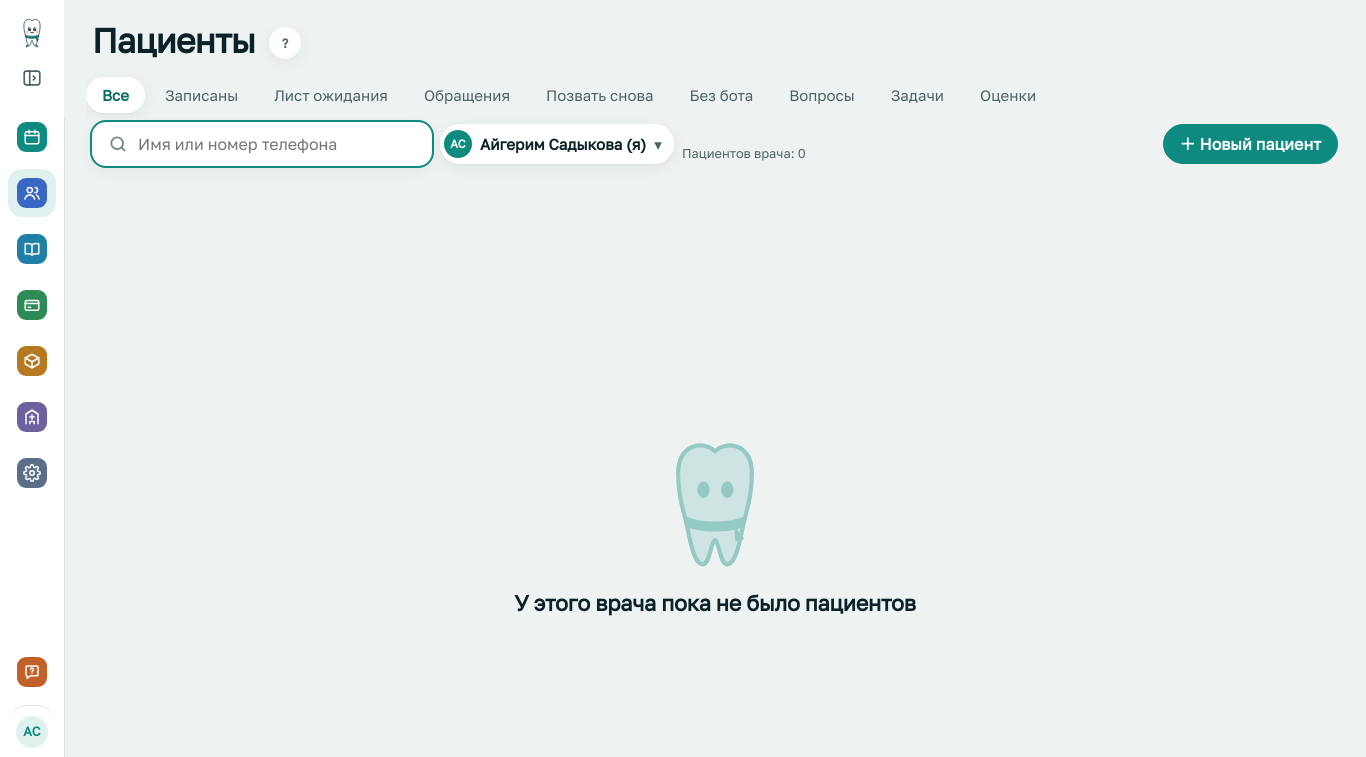
Test case: «Отменили»: «Записать» — «Новая запись» с этим пациентом, врачом и услугой отменённой записи
expect the navigation bar named "Разделы" is shown: met, box [8,113,56,497]
Step 1. Click the link "Позвать снова" → (600,95), box [546,86,653,104]
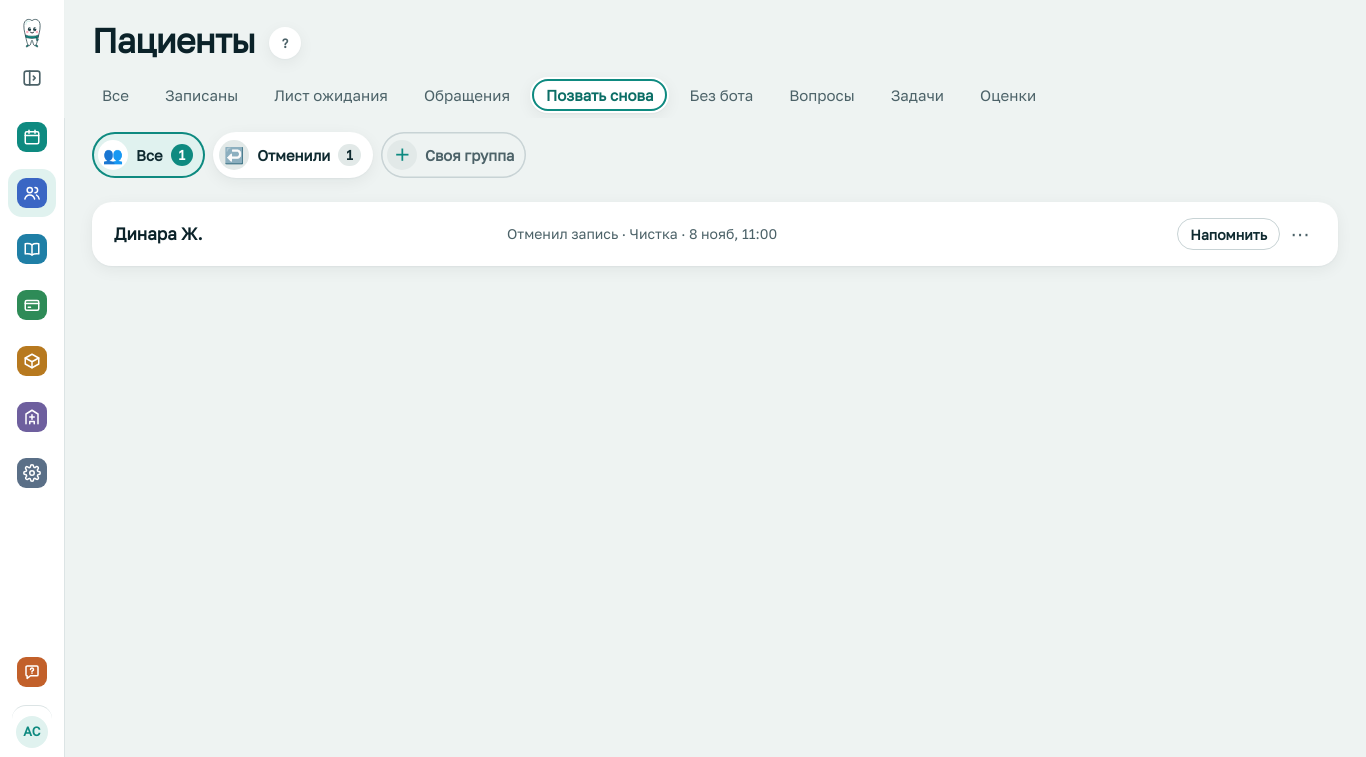
Step 2. Click the button named "Ещё: Динара Ж." → (1300,234), box [1284,218,1316,250]
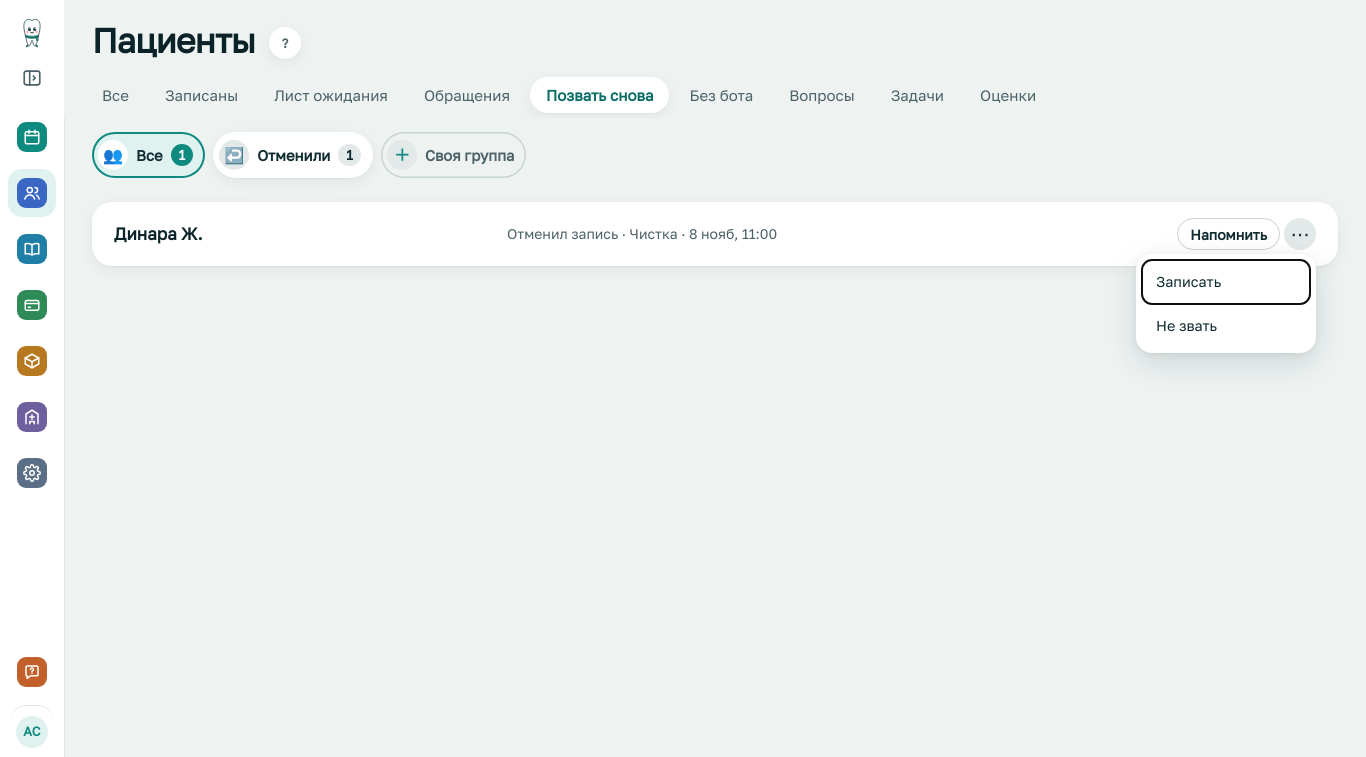
Step 3. Click the menu item "Записать" → (1226,282), box [1142,260,1310,304]
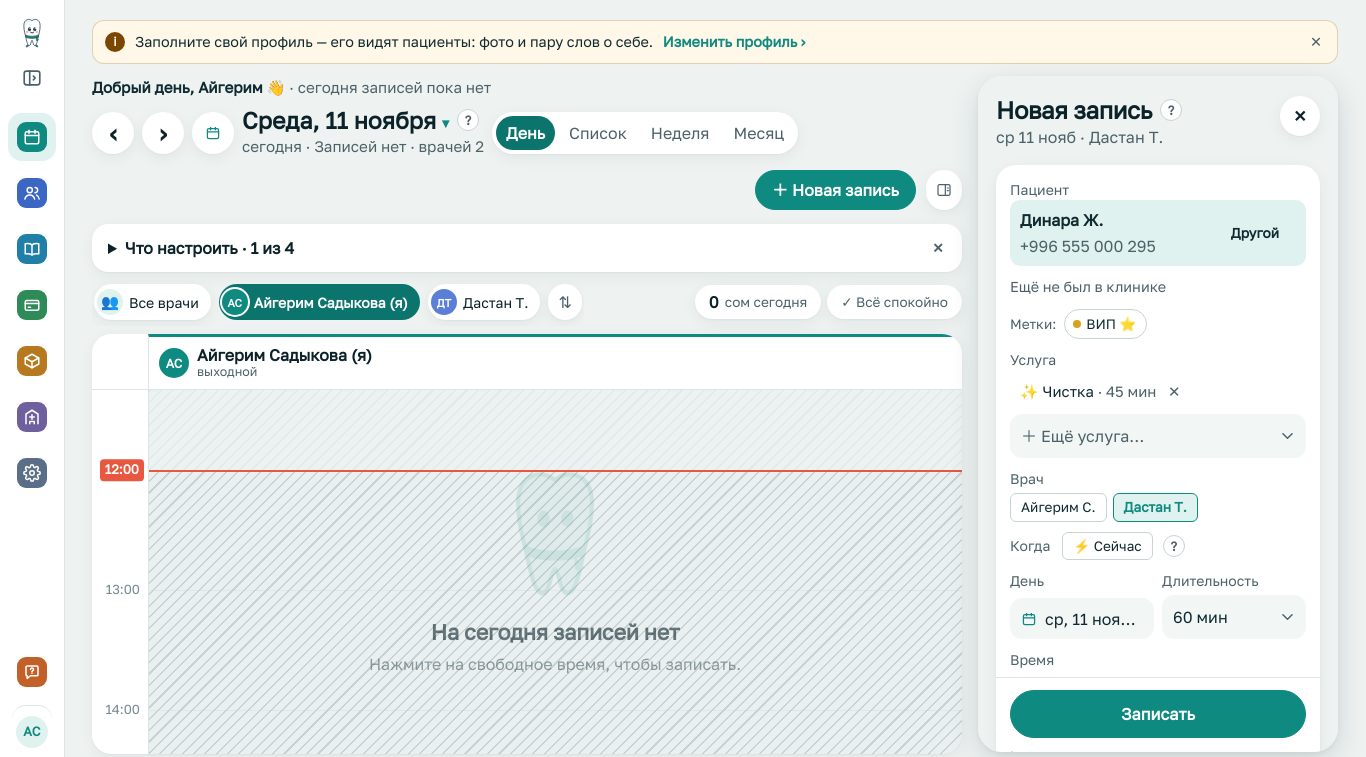
expect the element "Новая запись" shows "Динара Ж.": met, box [1020,210,1103,230]
expect the button "Дастан Т." is shown: met, box [1113,493,1198,522]
expect the list named "Выбранные услуги" shows "Чистка": met, box [1043,382,1094,400]
